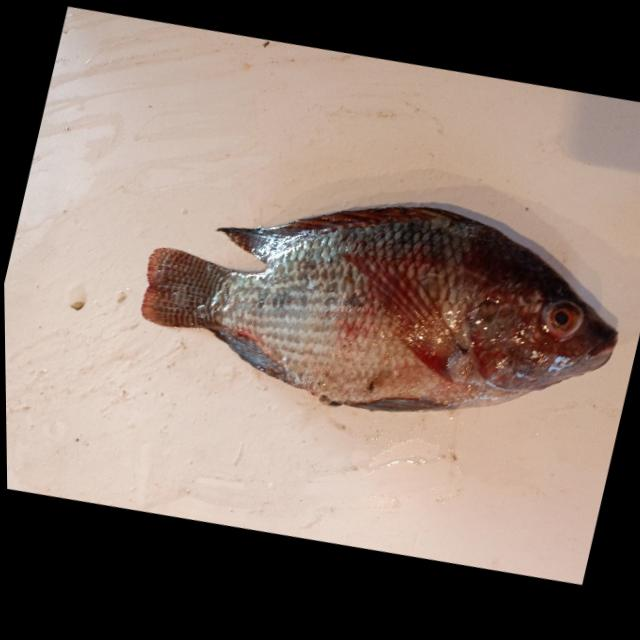Tilapia: (117, 122, 640, 487)
